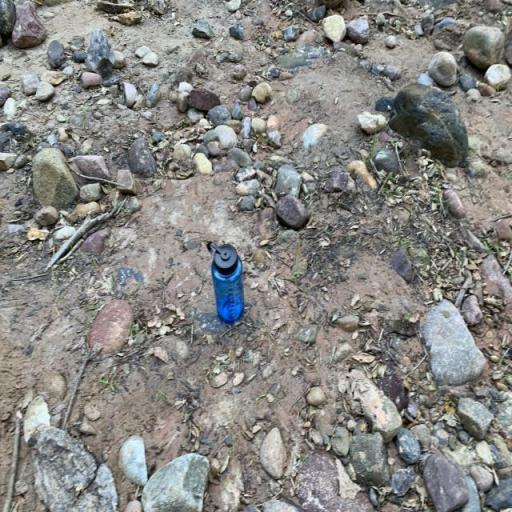bottle: (206, 242, 245, 324)
